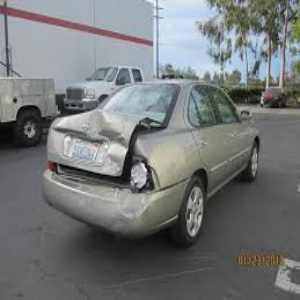bonnet: (56, 107, 134, 165)
bumper: (110, 192, 153, 238)
